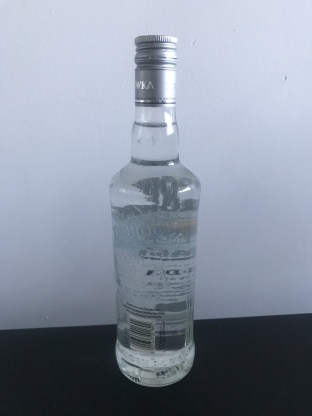nakretka: (132, 32, 179, 108)
